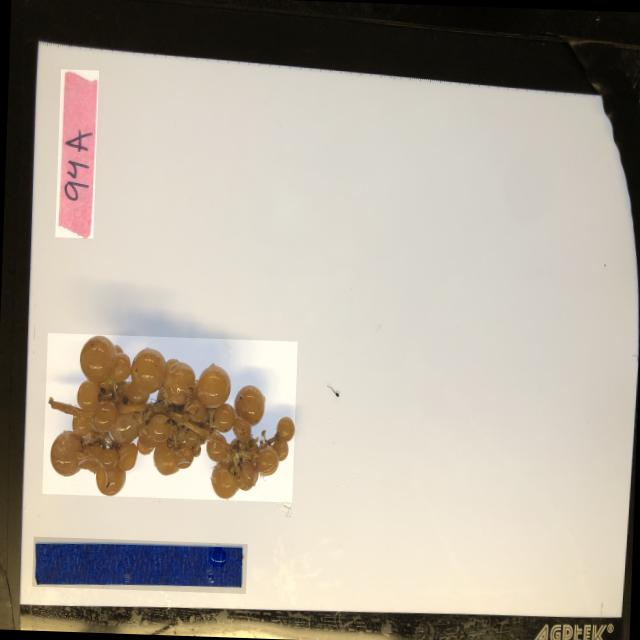grape_cluster: (42, 332, 298, 502)
index: (54, 68, 99, 237)
measure_label: (31, 536, 248, 592)
